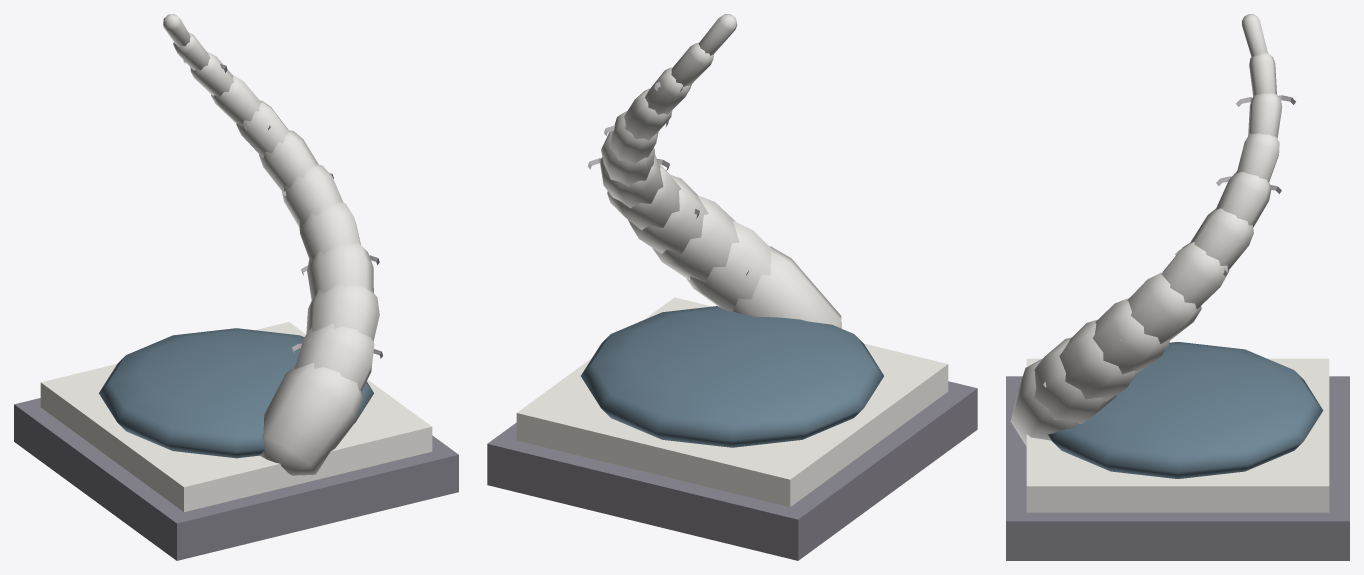
File: mythic-underworld-and-olympus-kraken-tentacle-bac9f1ba__21457.glb
3 renders of one model, left to right at view 1: azimuth 30°, elevation 25°; view 2: azimuth 150°, elevation 25°; view 3: azimuth 270°, elevation 25°, orthographic. The views are drawn at different scales.
Parts seen in each view (by area): view 1: kraken-tentacle; view 2: kraken-tentacle; view 3: kraken-tentacle.
Part boxes in pixels (<box>): kraken-tentacle: <box>14,14,458,560</box>; kraken-tentacle: <box>487,14,977,560</box>; kraken-tentacle: <box>1006,14,1349,560</box>.
Size of the model in its own units: 2.6 by 3.83 by 2.6.
